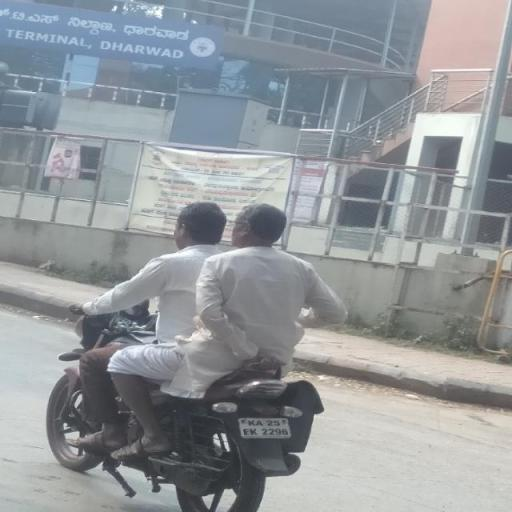bike: (42, 190, 356, 512)
numberplate: (238, 416, 292, 442)
withouthelmet: (234, 206, 284, 244), (180, 202, 222, 246)
